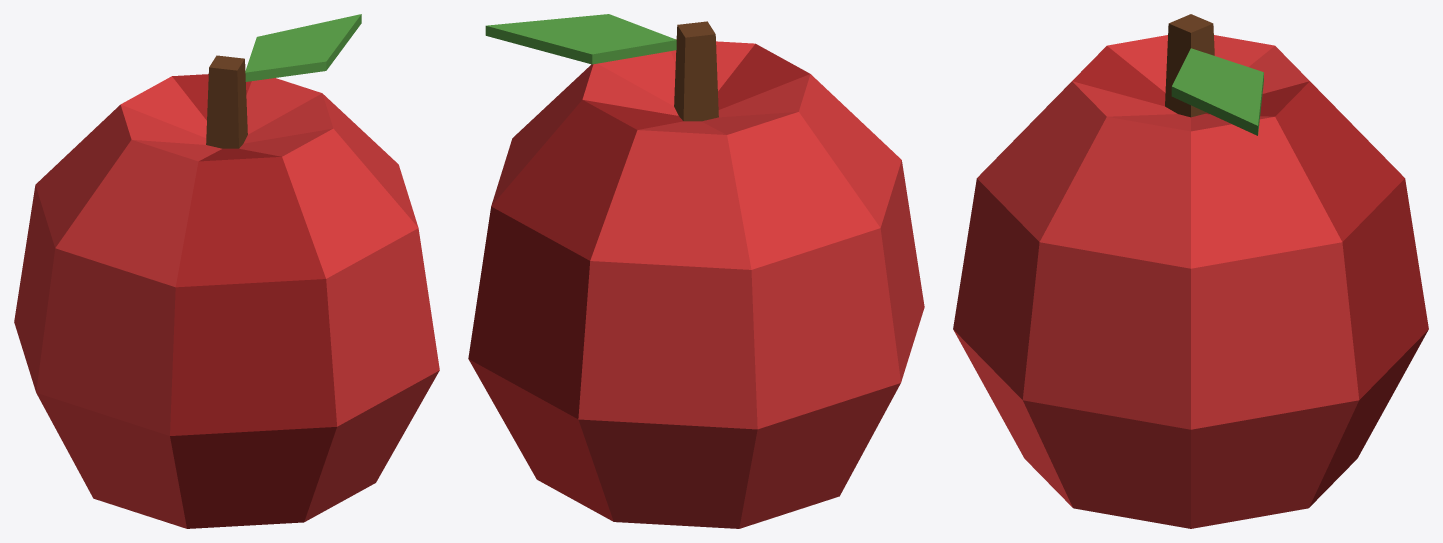
The model's file is apple.glb.
3 views of the same model, side by side, from view 1: azimuth 30°, elevation 25°; view 2: azimuth 150°, elevation 25°; view 3: azimuth 270°, elevation 25° (orthographic). The views are drawn at different scales.
Parts seen in each view (by area): view 1: apple; view 2: apple; view 3: apple.
Part boxes in pixels (box(x1,y1,x2,y2)): apple: box(14, 14, 439, 528); apple: box(468, 14, 924, 528); apple: box(953, 14, 1428, 528).
Bounding box in the file's own units: 0.17 × 0.18 × 0.17.
Materials: 1 (1 with a texture image).
